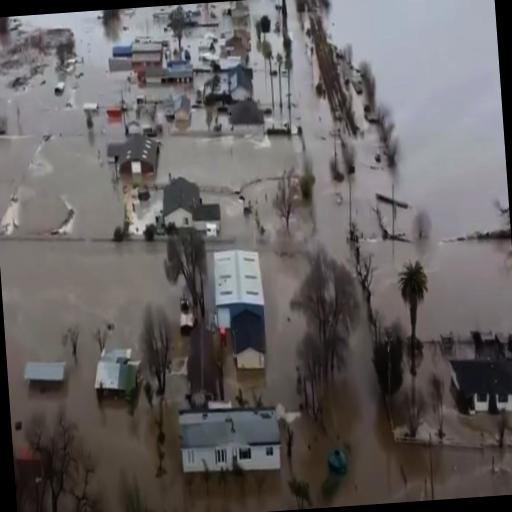flood: (323, 0, 512, 339), (0, 5, 185, 238), (0, 237, 188, 414), (64, 386, 296, 512), (292, 308, 432, 508), (287, 0, 350, 265), (157, 133, 301, 234), (259, 244, 305, 409), (432, 445, 512, 500), (252, 33, 288, 119), (9, 380, 67, 424), (224, 357, 266, 400), (206, 215, 257, 250)
house: (173, 396, 284, 485), (210, 246, 266, 332), (447, 353, 512, 426), (162, 174, 222, 240), (92, 336, 142, 402), (106, 132, 160, 180), (230, 308, 268, 374), (124, 36, 168, 82), (228, 64, 255, 110), (160, 57, 194, 88)
